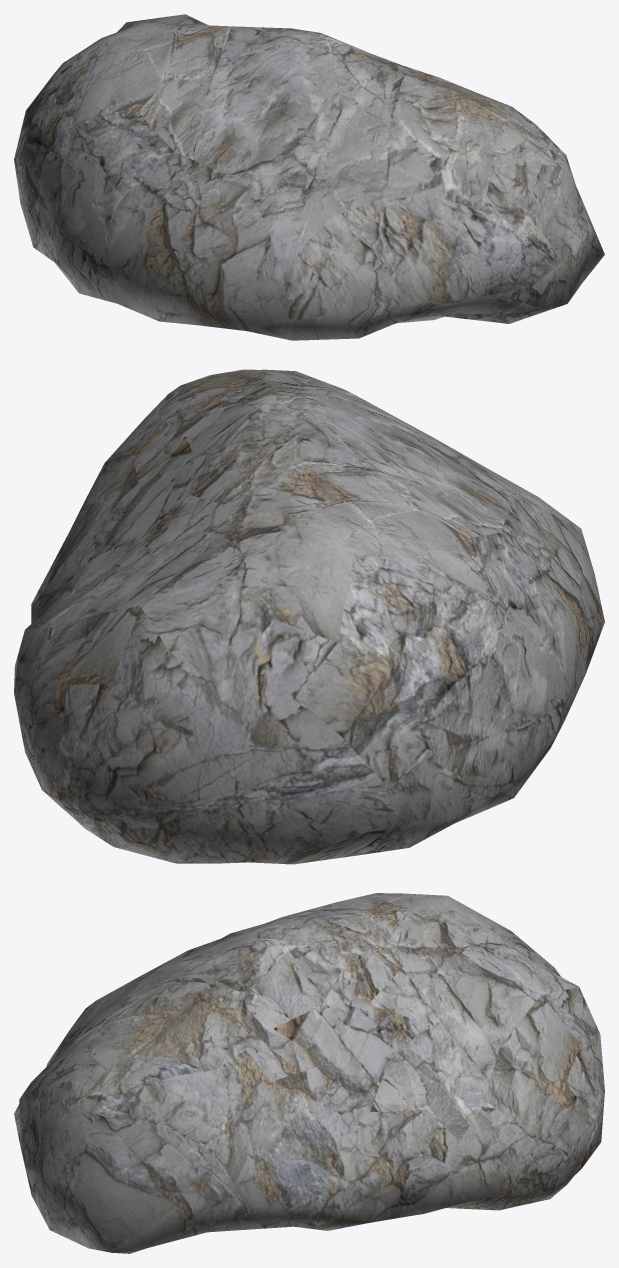
Rendered from roca2.glb.
3 renders of one model, top to bottom at view 1: azimuth 30°, elevation 25°; view 2: azimuth 150°, elevation 25°; view 3: azimuth 270°, elevation 25°, orthographic. The views are drawn at different scales.
Parts seen in each view (by area): view 1: Icosphere; view 2: Icosphere; view 3: Icosphere.
Boxes of the visible parts, box(x1,y1,x2,y2) form: Icosphere: box(14, 14, 604, 340); Icosphere: box(14, 369, 604, 864); Icosphere: box(14, 893, 604, 1253).
Bounding box in the file's own units: 5.11 × 2.92 × 5.83.
1 material, 1 textured.
